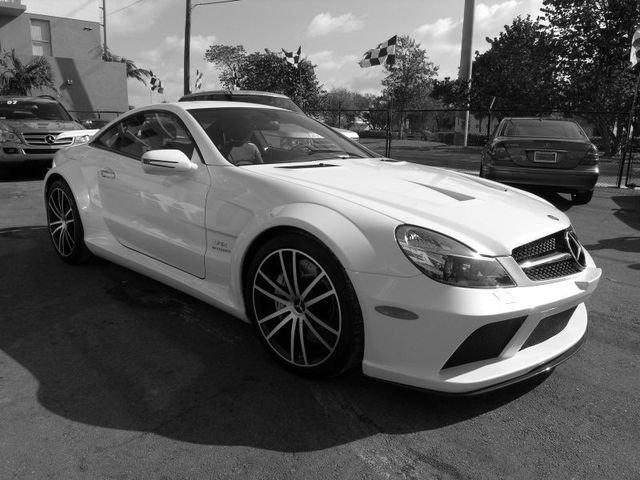car: (38, 89, 611, 403)
